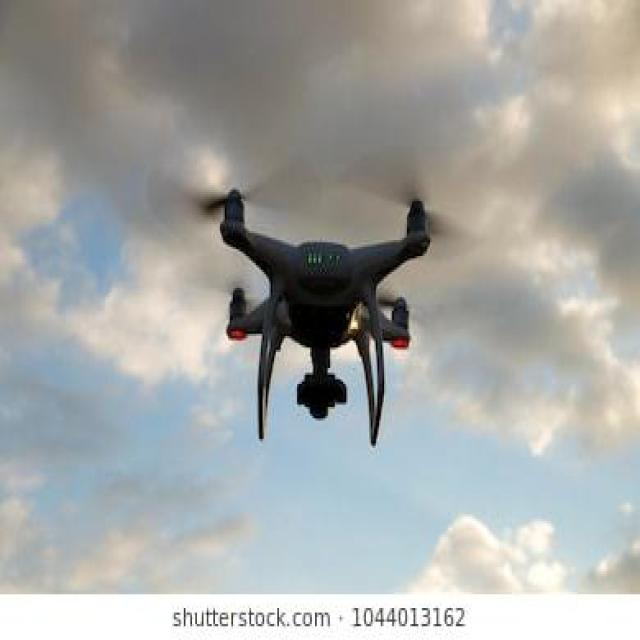drone: (129, 132, 490, 486)
